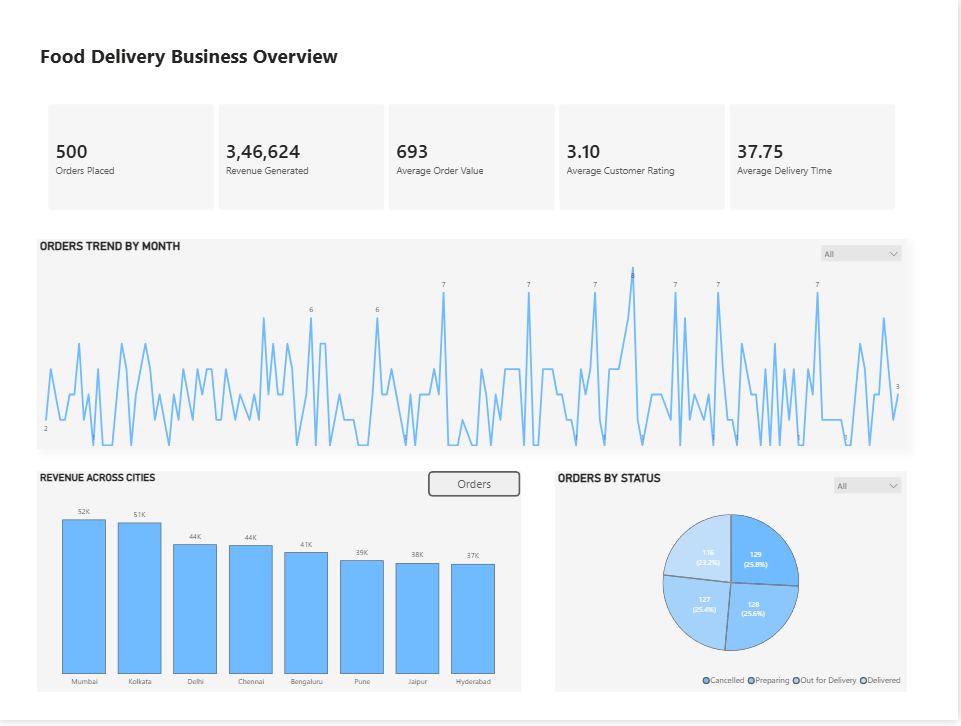

Layout of this report page (visuals, bound fields, positions):
{"tool":"powerbi","page":{"name":"Executive Overview","canvas":[1600,1200],"ordinal":0},"visuals":[{"type":"cardVisual","fields":{"Data":["Food_Delivery_Orders.Total Orders","Food_Delivery_Orders.Total Revenue","Food_Delivery_Orders.Average Order Value","Avg(Food_Delivery_Orders.Customer_Rating)","Avg(Food_Delivery_Orders.Delivery_Time_Minutes)"]},"box":[66,156,1450,210],"z":0},{"type":"lineChart","title":"ORDERS TREND BY MONTH","fields":{"Y":["CountNonNull(Food_Delivery_Orders.Order_ID)"],"Category":["Food_Delivery_Orders.Order_Date.Variation.Date Hierarchy.Year","Food_Delivery_Orders.Order_Date.Variation.Date Hierarchy.Month","Food_Delivery_Orders.Order_Date.Variation.Date Hierarchy.Day"]},"box":[65,398.3,1450,350],"z":0,"group":"g3"},{"type":"columnChart","title":"REVENUE ACROSS CITIES","fields":{"Category":["Food_Delivery_Orders.Customer_City"],"Y":["Food_Delivery_Orders.Total Revenue"]},"box":[65,785,806.7,368.3],"z":0,"group":"g1"},{"type":"group","id":"g1","title":"City By Revenue","box":[65,785,806.7,368.3],"z":1000},{"type":"actionButton","title":"Orders","box":[717.2,785.8,154.1,42.9],"z":1000,"group":"g1"},{"type":"group","id":"g2","title":"Group 1","box":[928.3,785,586.7,368.3],"z":3000},{"type":"group","id":"g3","title":"Group 2","box":[65,398.3,1450,350],"z":4000},{"type":"pieChart","title":"ORDERS BY STATUS","fields":{"Y":["Food_Delivery_Orders.Total Orders"],"Category":["Food_Delivery_Orders.Order_Status"]},"box":[928.3,785,586.3,368.3],"z":4000,"group":"g2"},{"type":"slicer","fields":{"Values":["Food_Delivery_Orders.Order_Date.Variation.Date Hierarchy.Month"]},"box":[1361,398.3,154,48],"z":4001,"group":"g3"},{"type":"textbox","box":[65,65,508.3,80],"z":5000},{"type":"slicer","fields":{"Values":["Food_Delivery_Orders.Order_Date.Variation.Date Hierarchy.Month","Food_Delivery_Orders.Order_Date.Variation.Date Hierarchy.Day"]},"box":[1383.2,785.1,131.8,42.9],"z":5502,"group":"g2"}]}

Visuals, with their boxes in screenshot pixels (x1, y1, x2, y2), scaled from the page's 1600x1200 canvas onto the 961x726 screenshot:
cardVisual - Food_Delivery_Orders.Total Orders x Food_Delivery_Orders.Total Revenue: (x1=40, y1=94, x2=911, y2=221)
"ORDERS TREND BY MONTH" lineChart: (x1=39, y1=241, x2=910, y2=453)
"REVENUE ACROSS CITIES" columnChart: (x1=39, y1=475, x2=524, y2=698)
"City By Revenue" group: (x1=39, y1=475, x2=524, y2=698)
"Orders" actionButton: (x1=431, y1=475, x2=523, y2=501)
"Group 1" group: (x1=558, y1=475, x2=910, y2=698)
"Group 2" group: (x1=39, y1=241, x2=910, y2=453)
"ORDERS BY STATUS" pieChart: (x1=558, y1=475, x2=910, y2=698)
slicer - Food_Delivery_Orders.Order_Date.Variation.Date Hierarchy.Month: (x1=817, y1=241, x2=910, y2=270)
textbox: (x1=39, y1=39, x2=344, y2=88)
slicer - Food_Delivery_Orders.Order_Date.Variation.Date Hierarchy.Month x Food_Delivery_Orders.Order_Date.Variation.Date Hierarchy.Day: (x1=831, y1=475, x2=910, y2=501)
